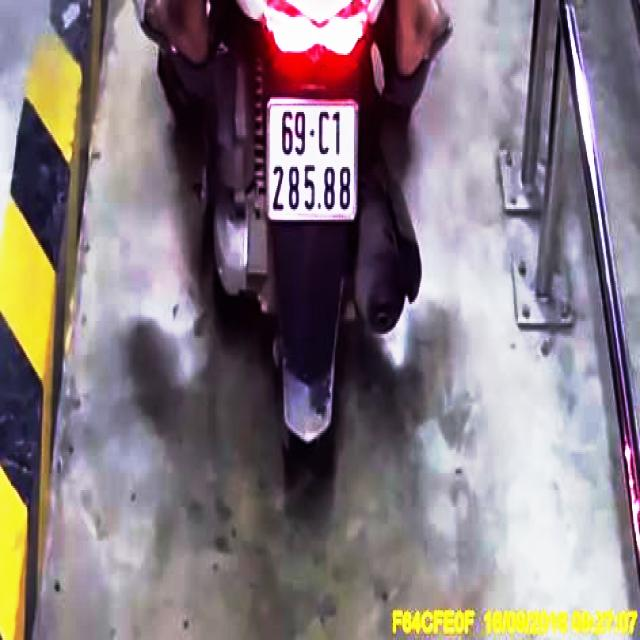license_plate: (269, 101, 358, 219)
